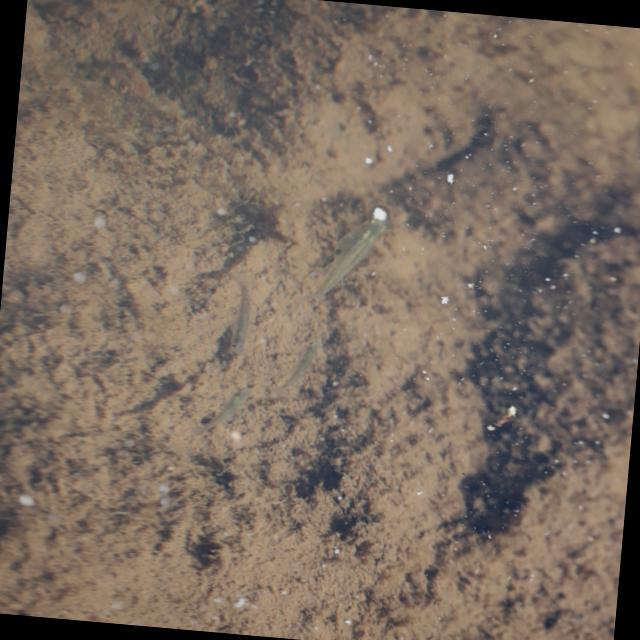Sivrisinek Baligi: (298, 198, 392, 304), (189, 381, 259, 441), (224, 267, 258, 357), (278, 339, 322, 390)
